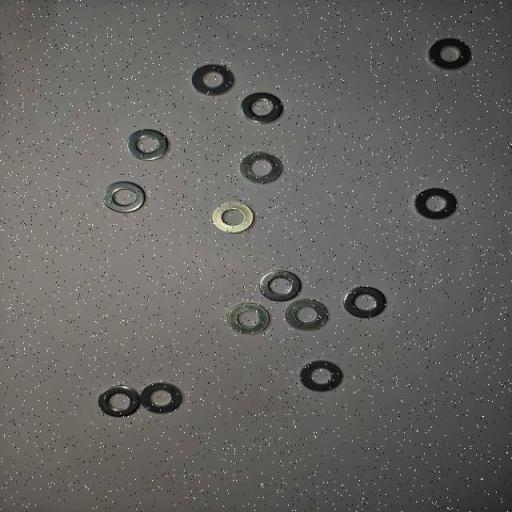washer: (102, 180, 146, 214), (240, 150, 283, 184), (240, 92, 284, 125), (427, 38, 472, 70), (228, 301, 270, 335), (414, 188, 458, 220), (284, 298, 328, 330), (192, 63, 234, 96), (127, 128, 169, 161), (344, 286, 386, 319), (140, 381, 182, 414), (98, 384, 140, 417), (259, 270, 302, 302), (212, 202, 254, 234), (300, 360, 342, 392)
